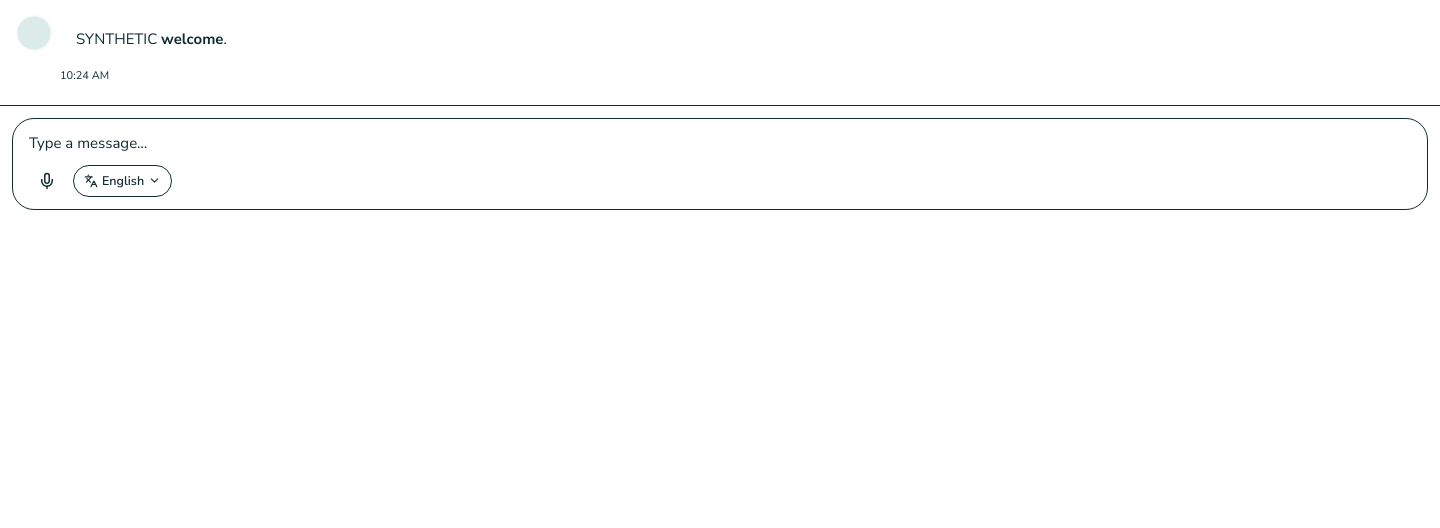
Test: ChatPanel › a retryable failure offers Try again, which regenerates
Type "SYNTHETIC question" into the text box named "Message your tutor" at (720, 143), box [29,131,1411,155]
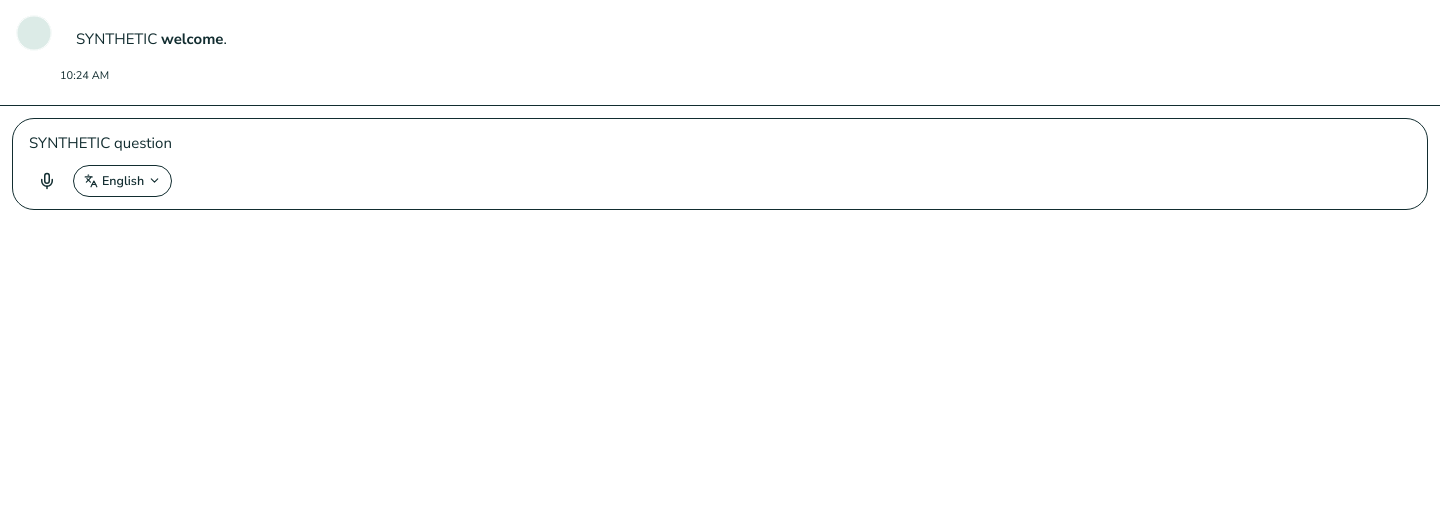
Press Enter in the text box named "Message your tutor", box [29,131,1411,155]
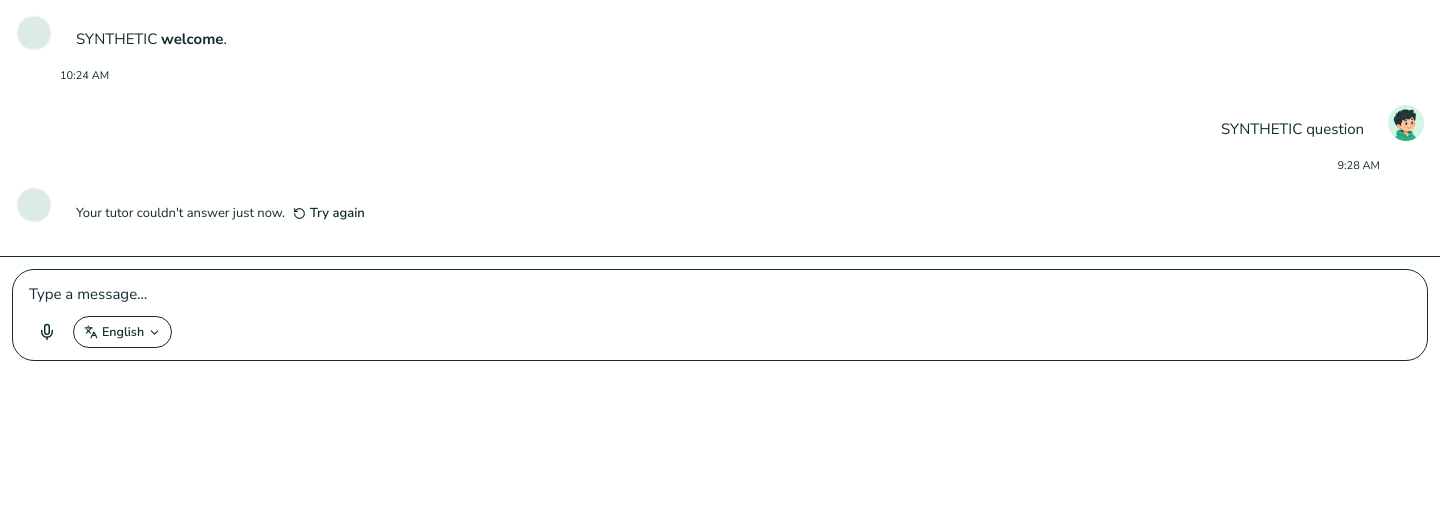
Expected: the message shows "Your tutor couldn't answer just now.", [76,204,285,222]
Click the button "Try again" at (329, 213), box [293,203,365,224]
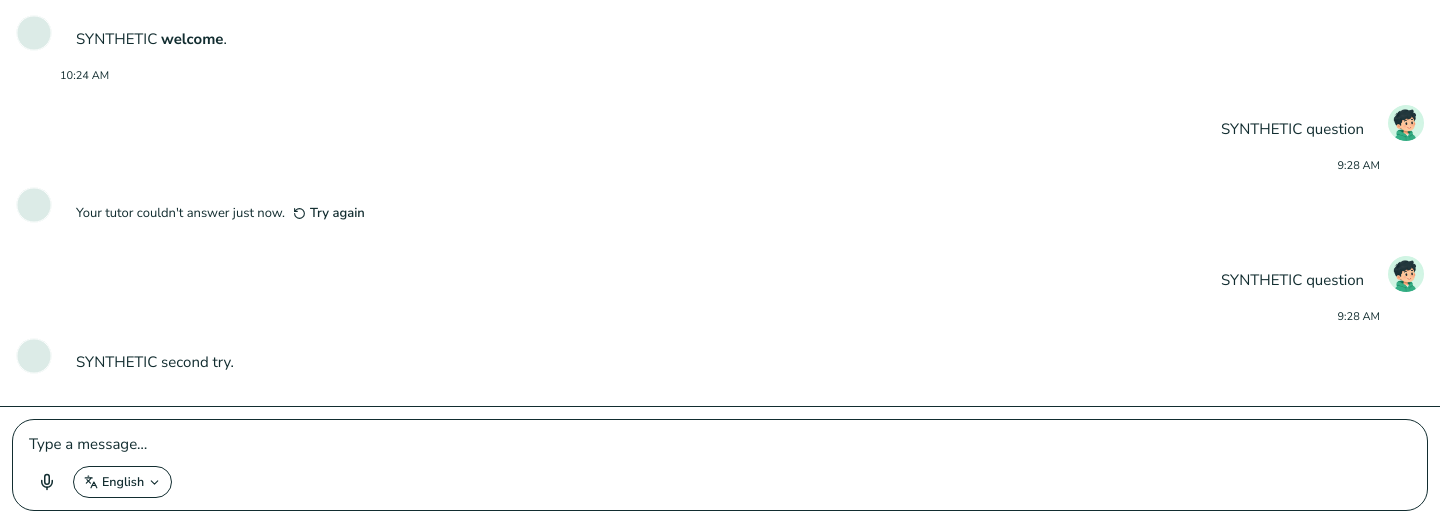
Expected: the text "SYNTHETIC second try." is shown, [76,350,234,374]
